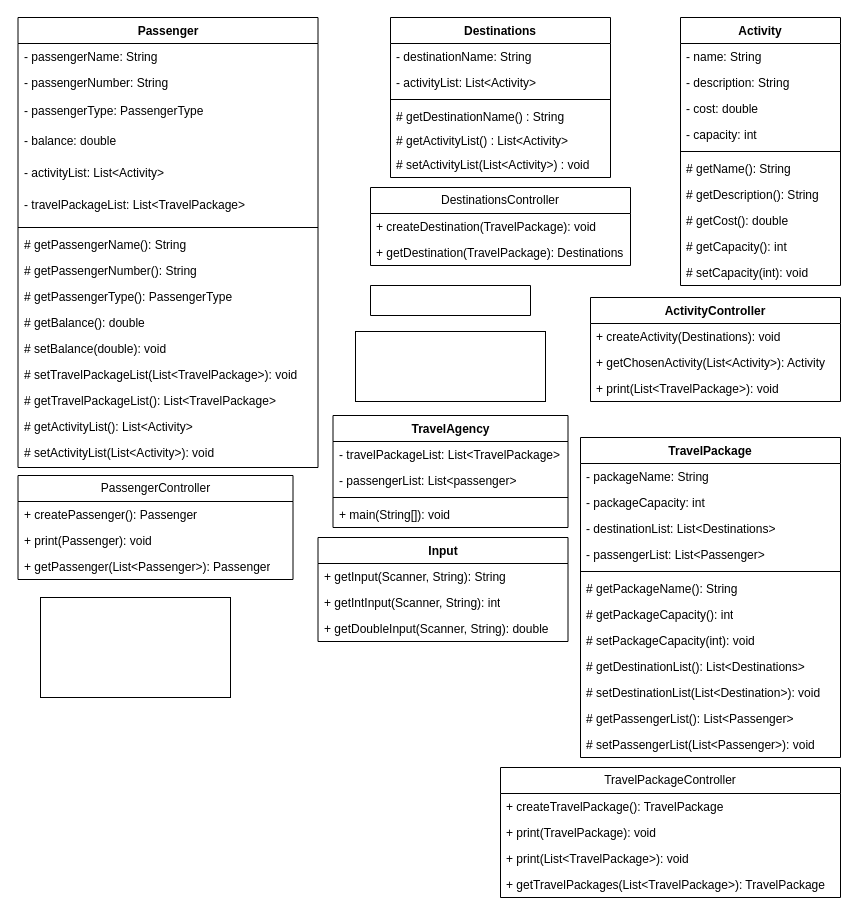
Image size: 858x918. Some labels were removed from this diagram. Each missing label, with the centre of its shape:
<<Enumeration>> PassengerType STANDARD, GOLD, PREMIUM: point 135,647
<<Interface>> Print + print(): void: point 450,366
EmptyListException: point 450,300
